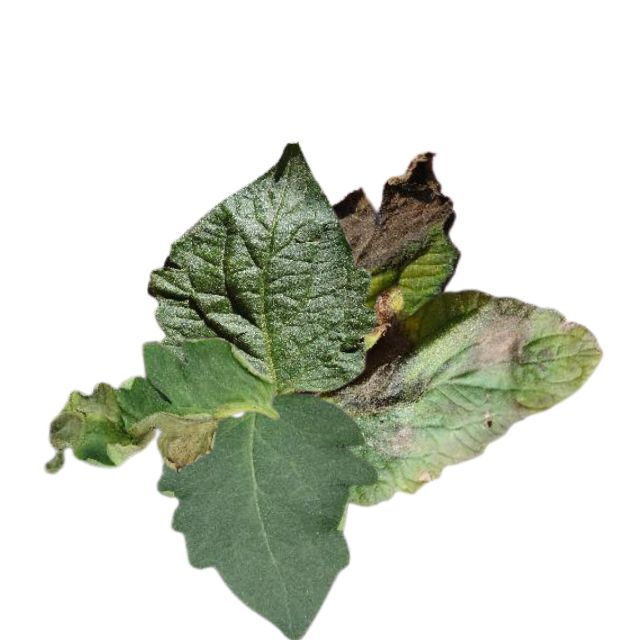Late_blight: (329, 152, 453, 277), (333, 325, 424, 414), (41, 381, 122, 473), (459, 295, 537, 375), (125, 411, 218, 470), (357, 413, 423, 462), (371, 282, 402, 328), (549, 308, 576, 339), (414, 467, 438, 486)
